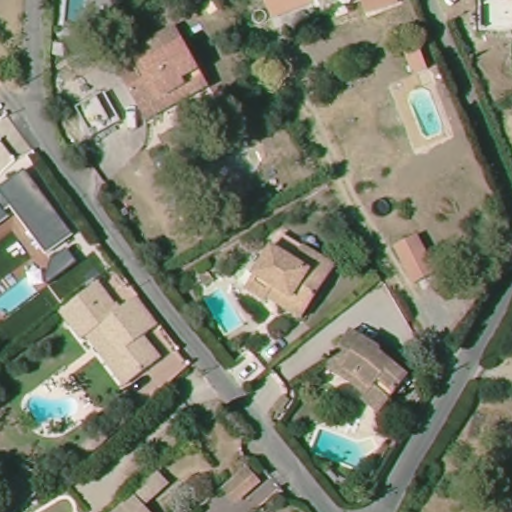pool: (310, 422, 378, 476), (200, 284, 248, 340), (406, 86, 451, 142), (18, 388, 79, 426), (1, 275, 36, 319), (62, 1, 94, 32)
